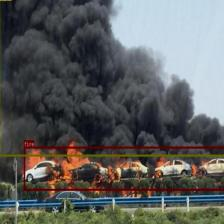fire: (23, 146, 224, 190)
smoke: (0, 0, 224, 156)
